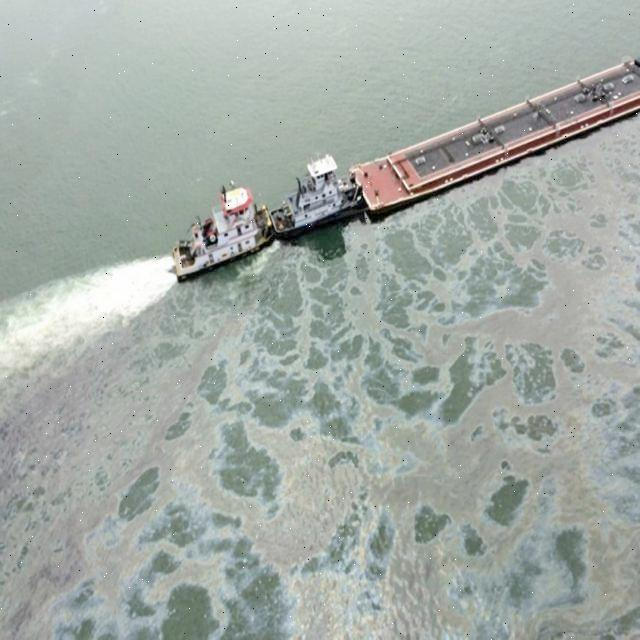oil: (3, 297, 640, 640)
